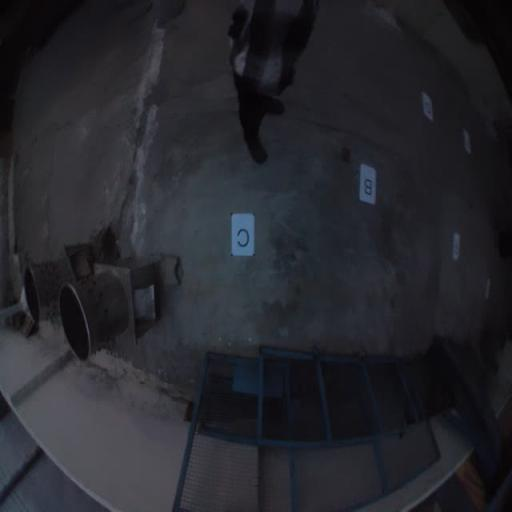B: (358, 163, 376, 206)
C: (232, 212, 254, 257)
